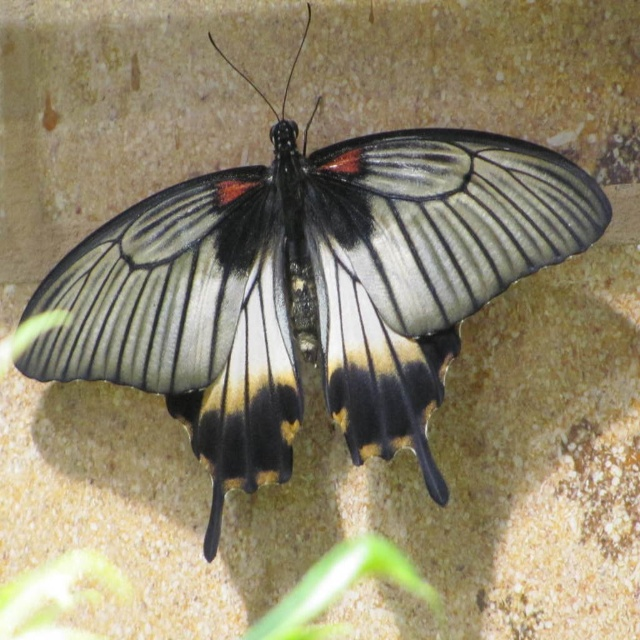Butterfly: (11, 2, 612, 564)
